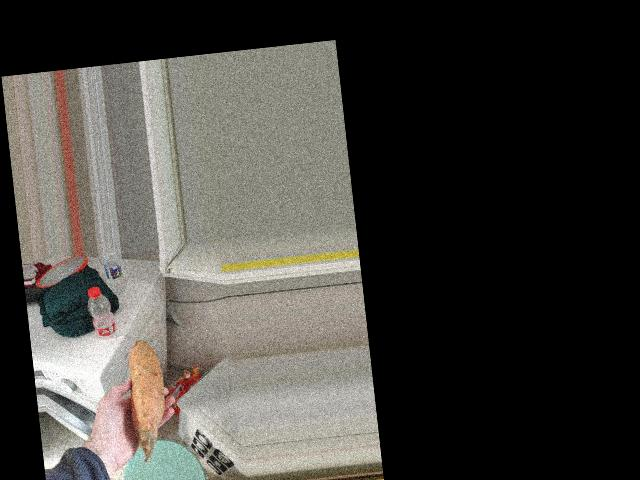sweet_potato: (116, 328, 167, 438)
